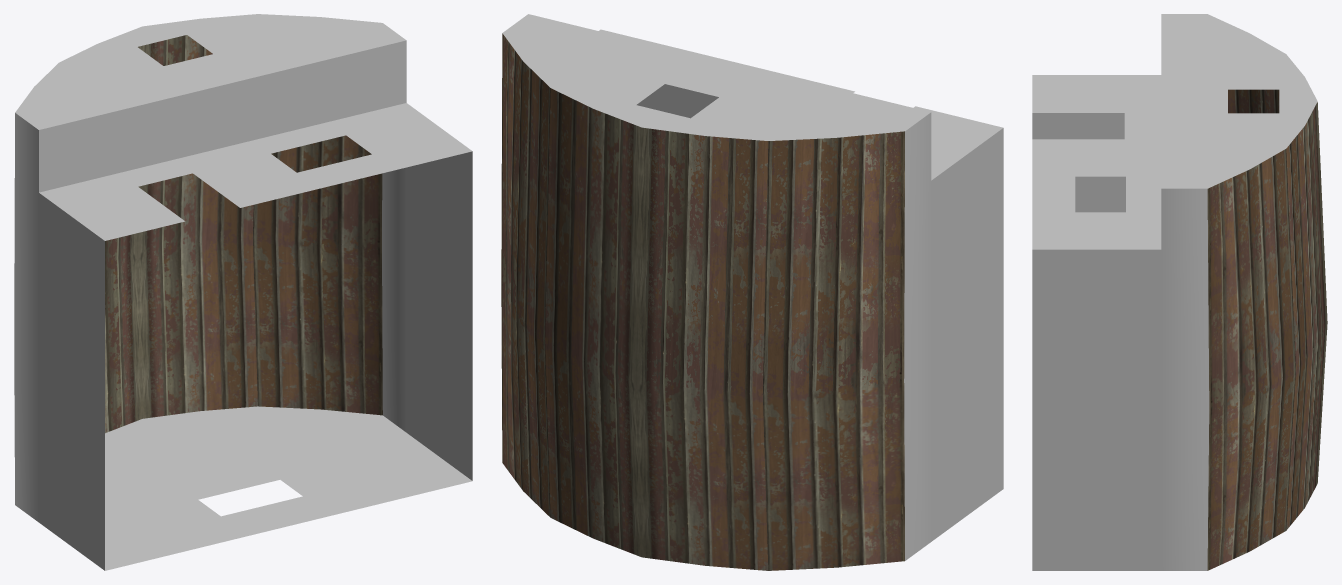
File: Pirate_House_Exterior_Type02_C.fbx
3 renders of one model, left to right at view 1: azimuth 30°, elevation 25°; view 2: azimuth 150°, elevation 25°; view 3: azimuth 270°, elevation 25°, orthographic. The views are drawn at different scales.
Parts seen in each view (by area): view 1: Pirate_House_Exterior_Type02_C; view 2: Pirate_House_Exterior_Type02_C; view 3: Pirate_House_Exterior_Type02_C.
Part boxes in pixels (x1,y1,x2,y2): Pirate_House_Exterior_Type02_C: (14,14,472,570); Pirate_House_Exterior_Type02_C: (501,14,1003,570); Pirate_House_Exterior_Type02_C: (1032,14,1327,570).
Size of the model in its own units: 9.5 by 9.69 by 6.78.
